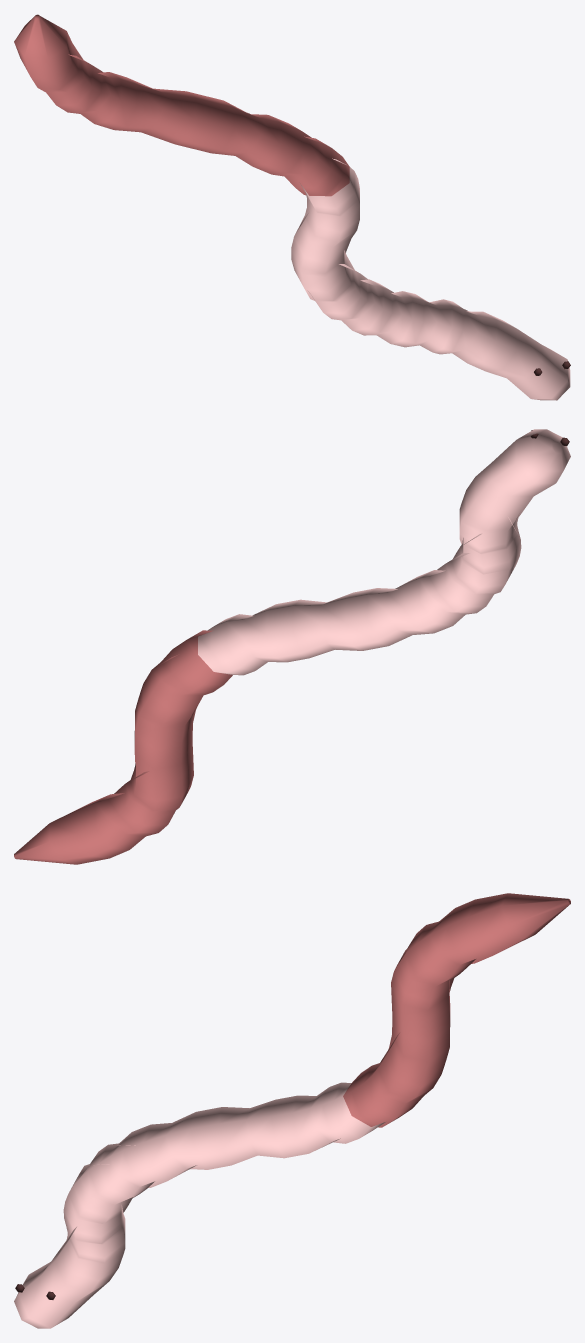
The model's file is aad32267-97f6-44bd-a534-da315808d8c1.glb.
3 renders of one model, top to bottom at view 1: azimuth 30°, elevation 25°; view 2: azimuth 150°, elevation 25°; view 3: azimuth 330°, elevation 25°, orthographic. The views are drawn at different scales.
Parts seen in each view (by area): view 1: Worm; view 2: Worm; view 3: Worm.
Boxes of the visible parts, x1,y1,x2,y2 form: Worm: (14, 14, 570, 400); Worm: (14, 429, 570, 864); Worm: (14, 893, 570, 1328).
Size of the model in its own units: 38.06 by 11.7 by 219.
